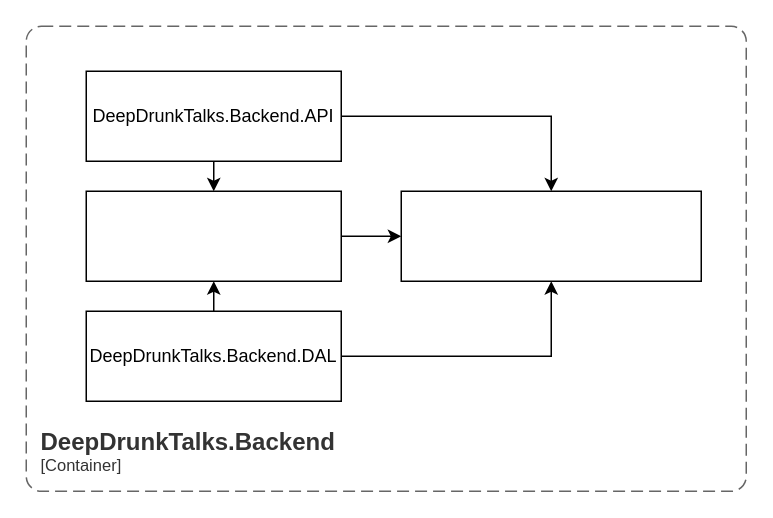
Some shapes in this 773 by 518 pixel diagram are drawn without their labels. The box of each missing label's shape, as (x1, y1, x2, y2) in pixels:
DeepDrunkTalks.Backend.BLL: (85, 190, 341, 281)
DeepDrunkTalks.Backend.Common: (400, 190, 701, 281)
